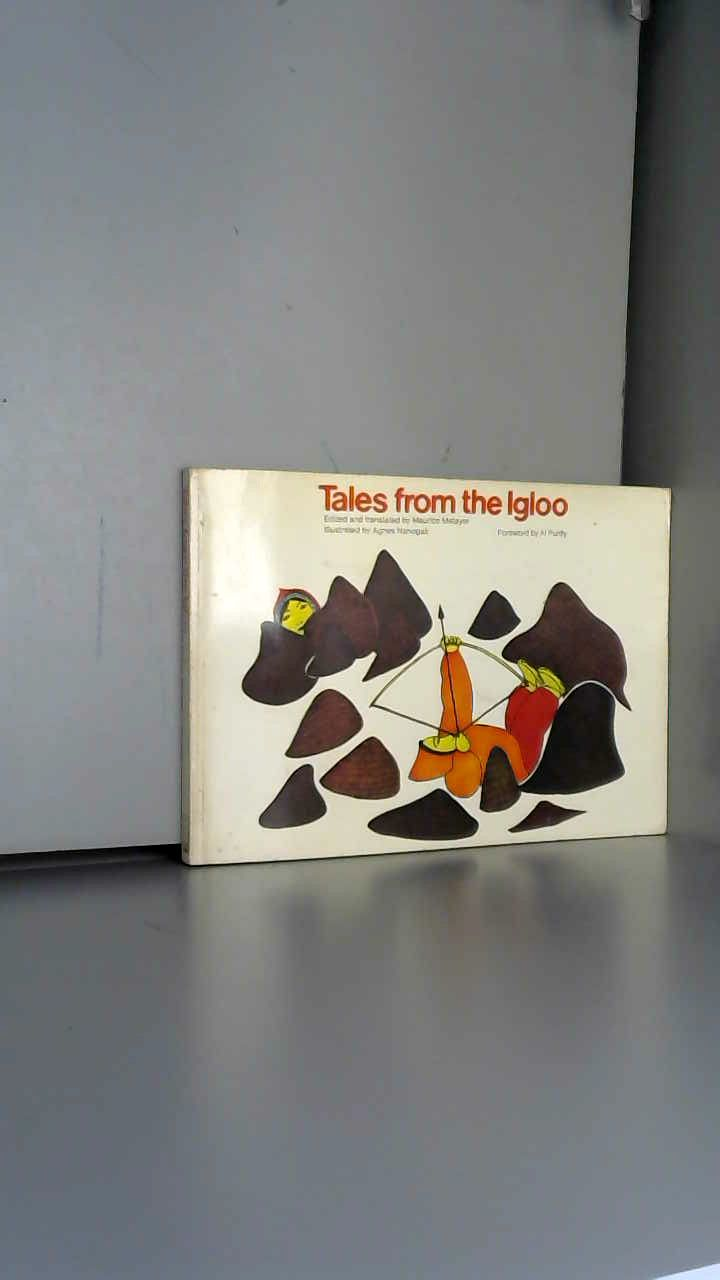book: (160, 440, 717, 935)
